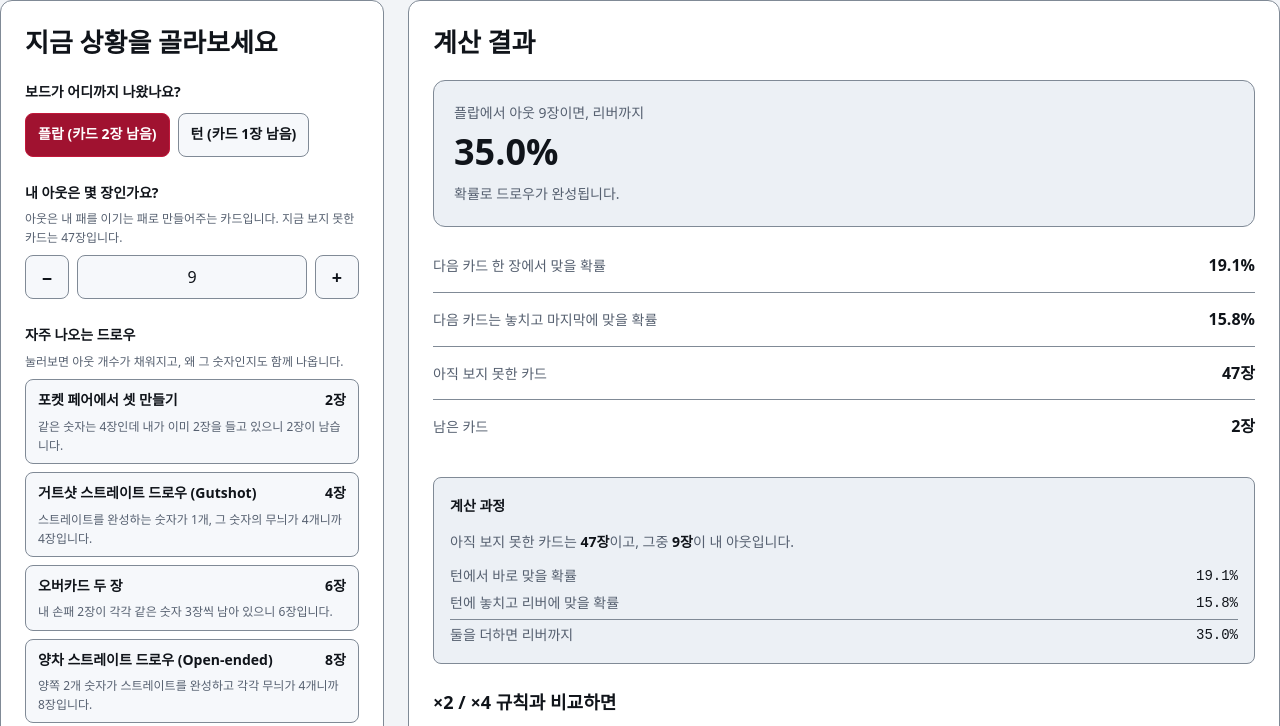
Test: OutsCalculator › tells the reader how many cards are still unseen on the street they picked
The width and height of the screenshot is (1280, 726).
expect the 1st text "47장" is shown: met, box [1222,359,1255,387]
Click the button "턴 (카드 1장 남음)".
click(243, 135)  # box [178,113,309,157]
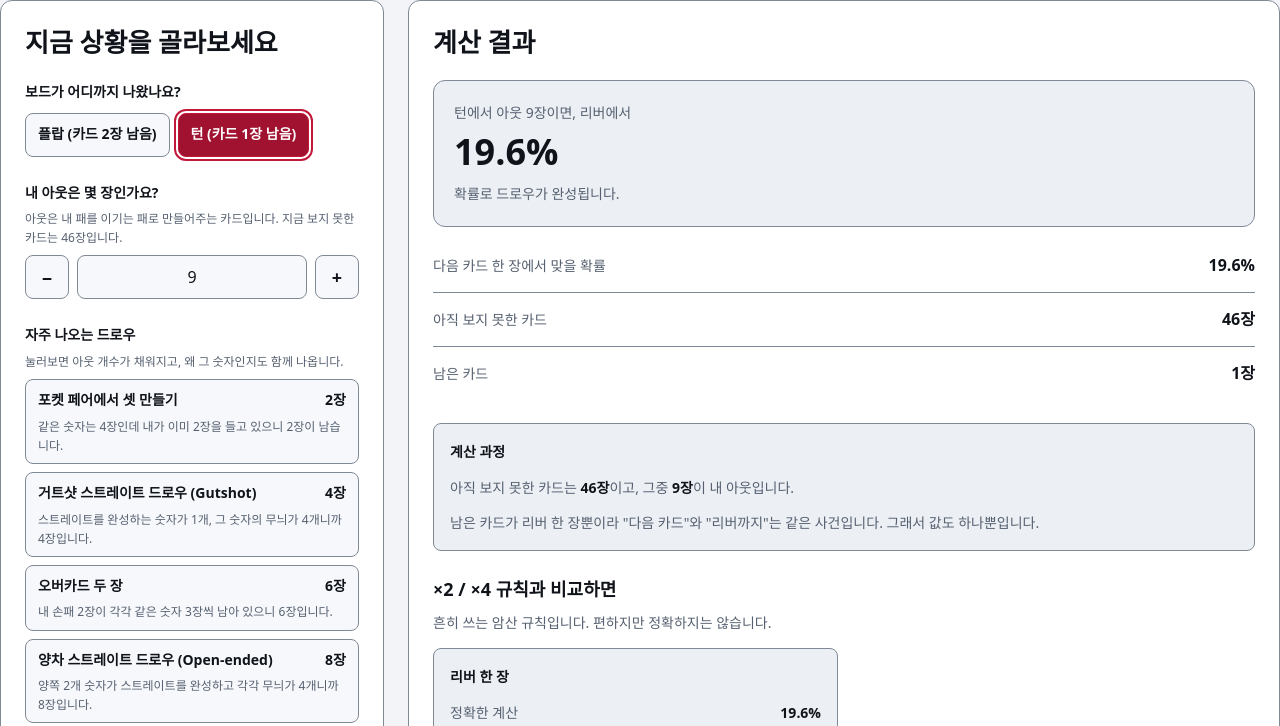
expect the 1st text "46장" is shown: met, box [1222,305,1255,334]
